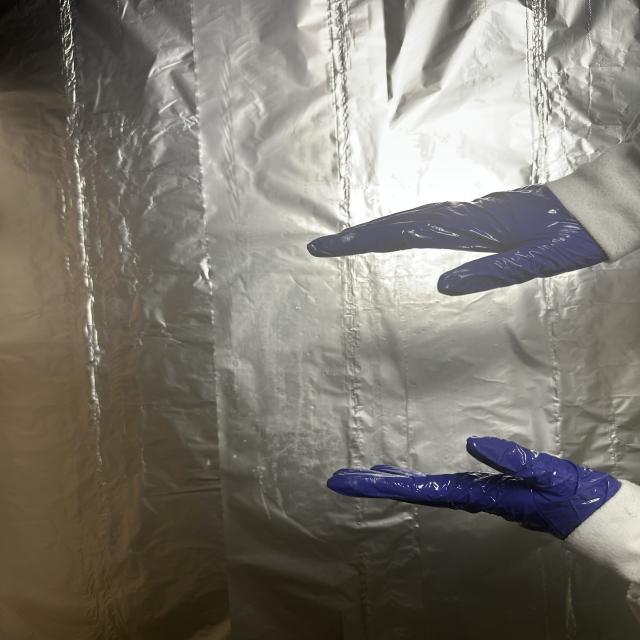gloves_contaminated: (308, 185, 606, 295), (328, 437, 622, 540)
